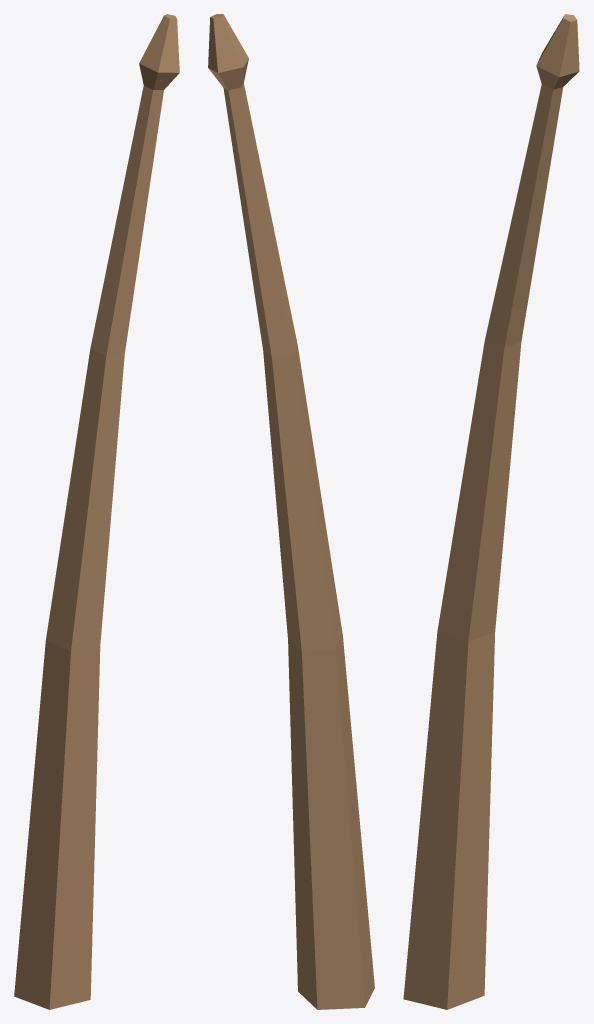
Rendered from Palm_Tree_NoLeaves_m_BT_02.fbx.
3 renders of one model, left to right at view 1: azimuth 30°, elevation 25°; view 2: azimuth 150°, elevation 25°; view 3: azimuth 330°, elevation 25°, orthographic. The views are drawn at different scales.
Visible parts, largest first — view 1: Palm_Tree_NoLeaves_m_BT_02; view 2: Palm_Tree_NoLeaves_m_BT_02; view 3: Palm_Tree_NoLeaves_m_BT_02.
Part boxes in pixels (x1,y1,x2,y2): Palm_Tree_NoLeaves_m_BT_02: (14, 14, 179, 1009); Palm_Tree_NoLeaves_m_BT_02: (208, 14, 374, 1009); Palm_Tree_NoLeaves_m_BT_02: (403, 14, 579, 1009).
Size of the model in its own units: 105 by 600 by 42.03.
